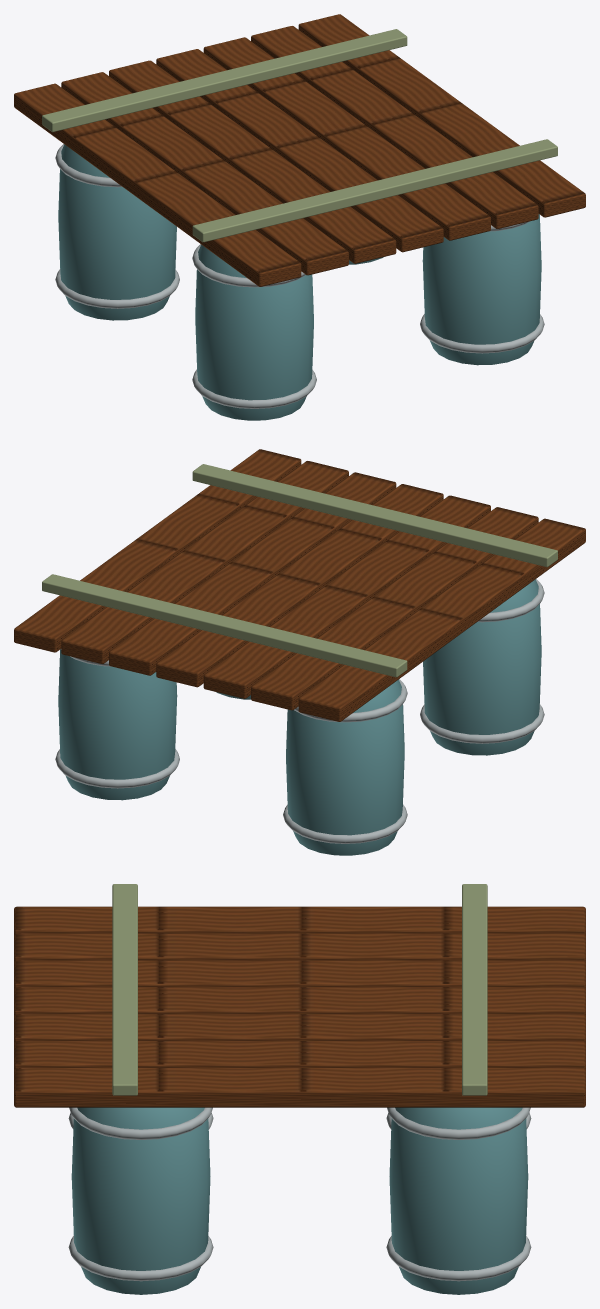
The model's file is flooded-and-coastal-survival-barrel-float-raft-2a665496__20048.glb.
3 views of the same model, one above another, from view 1: azimuth 30°, elevation 25°; view 2: azimuth 150°, elevation 25°; view 3: azimuth 270°, elevation 25° (orthographic). The views are drawn at different scales.
Visible parts, largest first — view 1: barrel-float-raft; view 2: barrel-float-raft; view 3: barrel-float-raft.
Part boxes in pixels (x1,y1,x2,y2): barrel-float-raft: (14,14,585,420); barrel-float-raft: (14,449,585,855); barrel-float-raft: (14,884,585,1294).
Bounding box in the file's own units: 1.5 × 0.77 × 1.8.
Materials: 4 (1 with a texture image).
